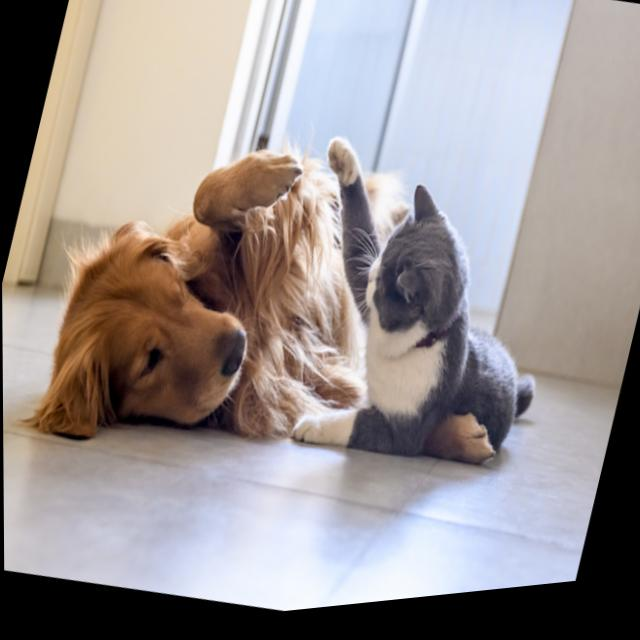Cat: (249, 50, 618, 539)
Dog: (20, 66, 326, 497)
